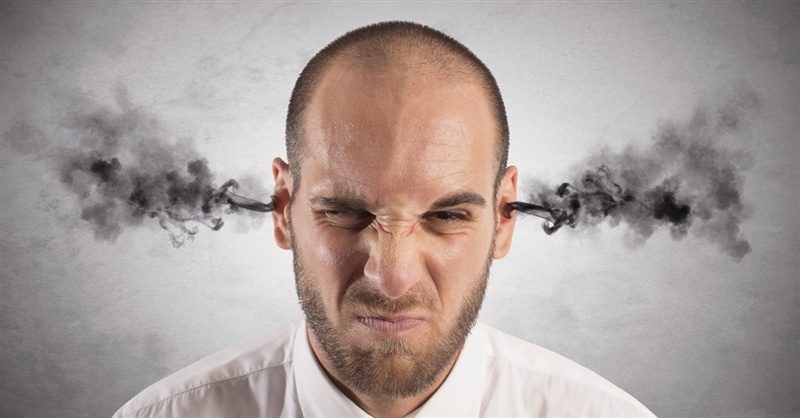angry: (298, 144, 495, 408)
